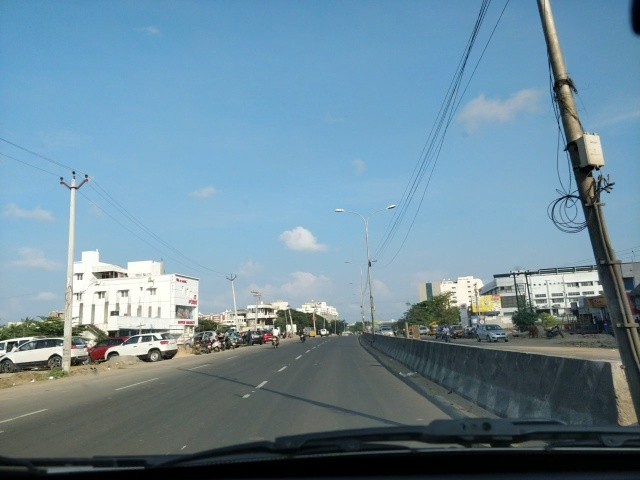car: (0, 336, 91, 375), (102, 331, 179, 362), (1, 336, 49, 357), (88, 336, 126, 361), (474, 321, 511, 344), (181, 333, 219, 350), (243, 329, 263, 345)
motorbike: (193, 340, 216, 354), (441, 323, 452, 343), (272, 327, 280, 349), (299, 324, 306, 344)
person: (227, 329, 237, 347)
